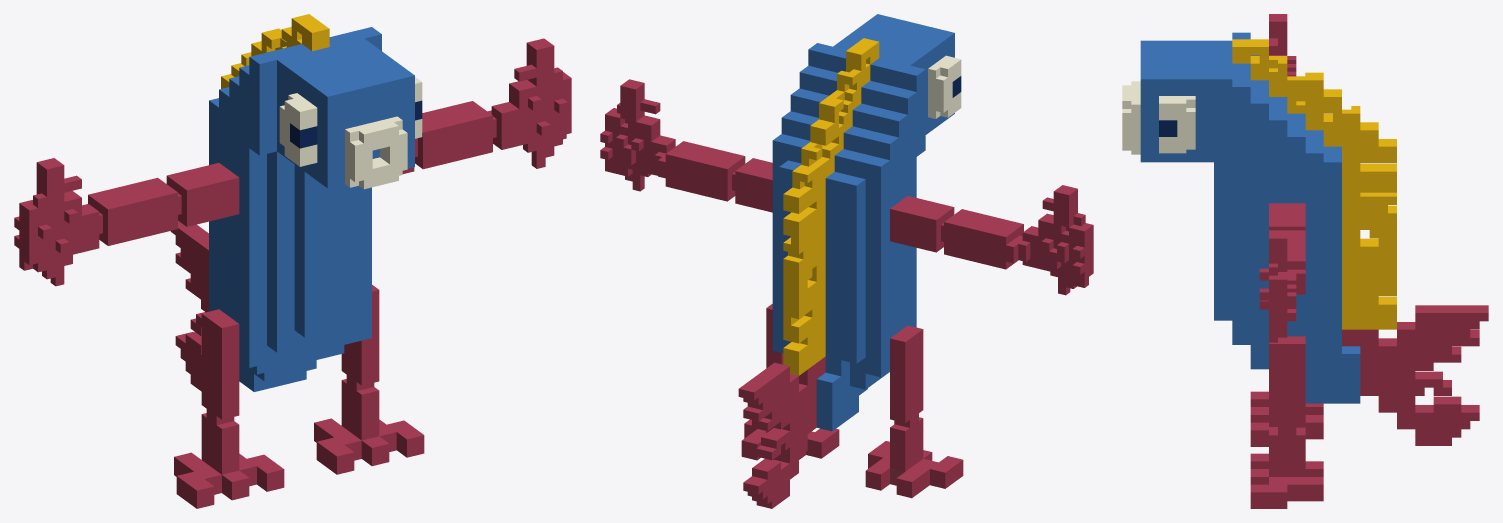
The model's file is FishTest-0.obj.
3 renders of one model, left to right at view 1: azimuth 30°, elevation 25°; view 2: azimuth 150°, elevation 25°; view 3: azimuth 270°, elevation 25°, orthographic. The views are drawn at different scales.
Size of the model in its own units: 6.2 by 5 by 4.
Materials: 1 (1 with a texture image).
